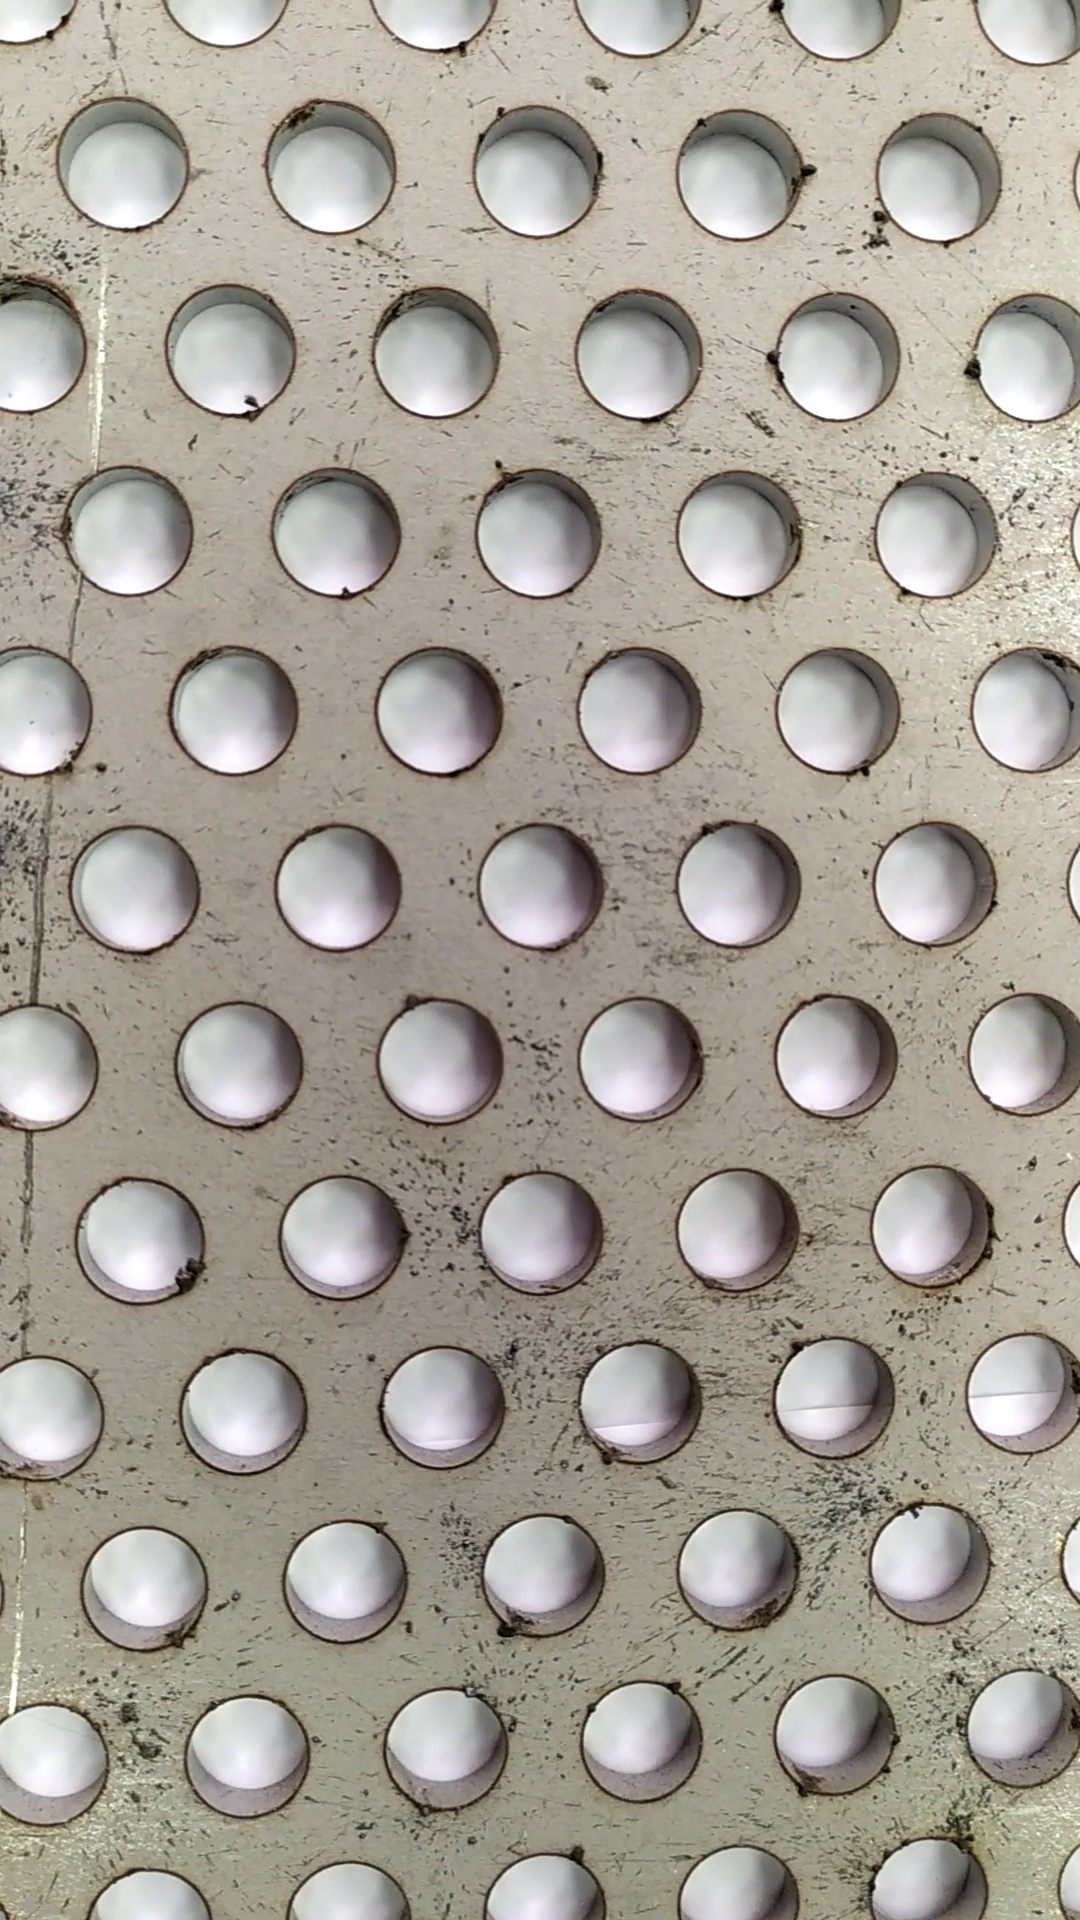Hole: (253, 83, 418, 247), (458, 87, 618, 251), (67, 1513, 236, 1660), (462, 456, 622, 607), (251, 458, 414, 605), (40, 87, 204, 233), (61, 1170, 228, 1311), (357, 636, 516, 785), (667, 804, 816, 963), (560, 280, 713, 433), (567, 986, 720, 1139), (559, 1332, 724, 1473), (165, 1340, 330, 1481), (661, 98, 816, 247), (463, 815, 622, 960), (157, 636, 309, 787), (862, 99, 1011, 252), (153, 276, 306, 425), (365, 992, 524, 1135), (659, 1499, 820, 1640), (167, 993, 320, 1139), (57, 818, 212, 960), (861, 804, 1010, 952), (471, 1158, 616, 1309), (169, 1689, 332, 1824), (269, 1509, 425, 1650), (765, 638, 914, 785), (265, 814, 414, 960), (367, 1335, 520, 1477), (568, 1669, 723, 1811), (365, 1677, 524, 1815), (359, 281, 508, 426), (266, 1168, 422, 1307), (55, 452, 202, 599), (764, 1324, 913, 1468), (467, 1503, 618, 1644), (567, 634, 713, 779), (861, 1150, 1007, 1295), (667, 460, 810, 609), (760, 985, 913, 1124), (764, 284, 909, 429), (665, 1156, 812, 1299), (853, 1495, 1006, 1633), (769, 1668, 922, 1805), (861, 465, 1006, 603)
